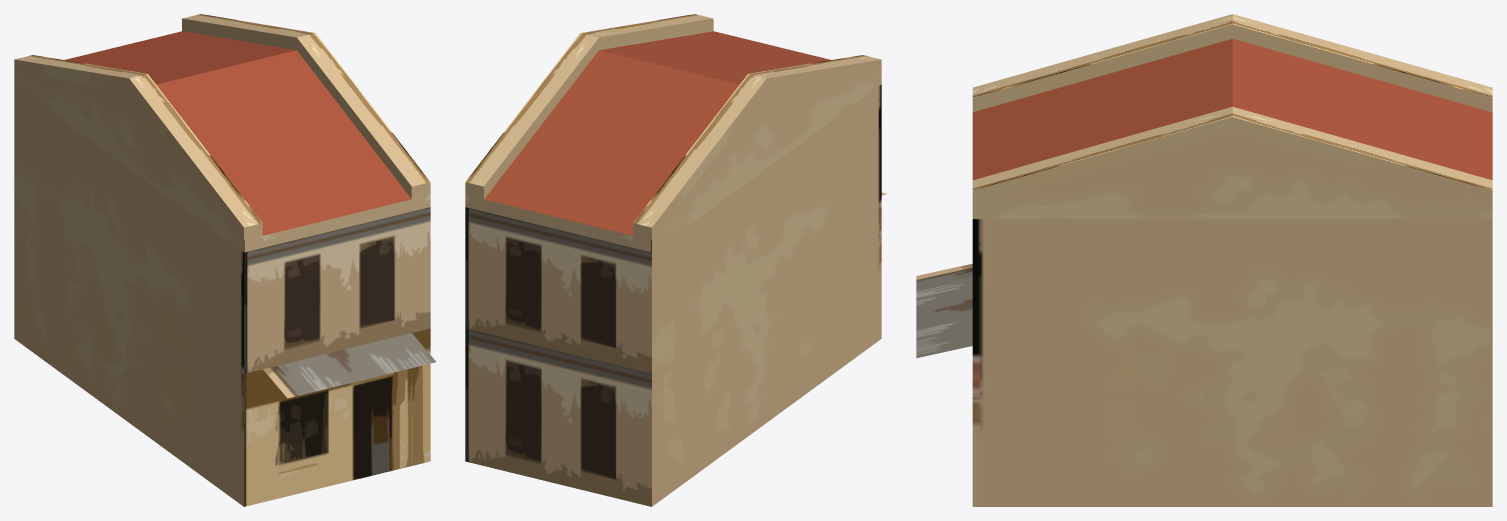
Rendered from SM_Building_Large_03.fbx.
3 renders of one model, left to right at view 1: azimuth 30°, elevation 25°; view 2: azimuth 150°, elevation 25°; view 3: azimuth 270°, elevation 25°, orthographic. The views are drawn at different scales.
Visible parts, largest first — view 1: SM_Building_Large_03_LOD0; view 2: SM_Building_Large_03_LOD0; view 3: SM_Building_Large_03_LOD0.
Boxes of the visible parts, x1,y1,x2,y2 form: SM_Building_Large_03_LOD0: [14, 14, 435, 506]; SM_Building_Large_03_LOD0: [465, 14, 886, 506]; SM_Building_Large_03_LOD0: [916, 14, 1492, 506].
Size of what is drawn, in the model's own units: 5.07 by 8.95 by 11.99.
